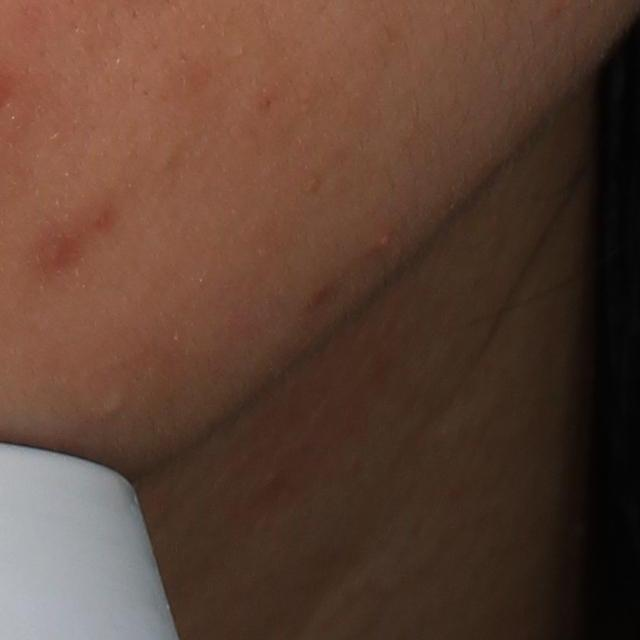comedo: (99, 388, 132, 422)
